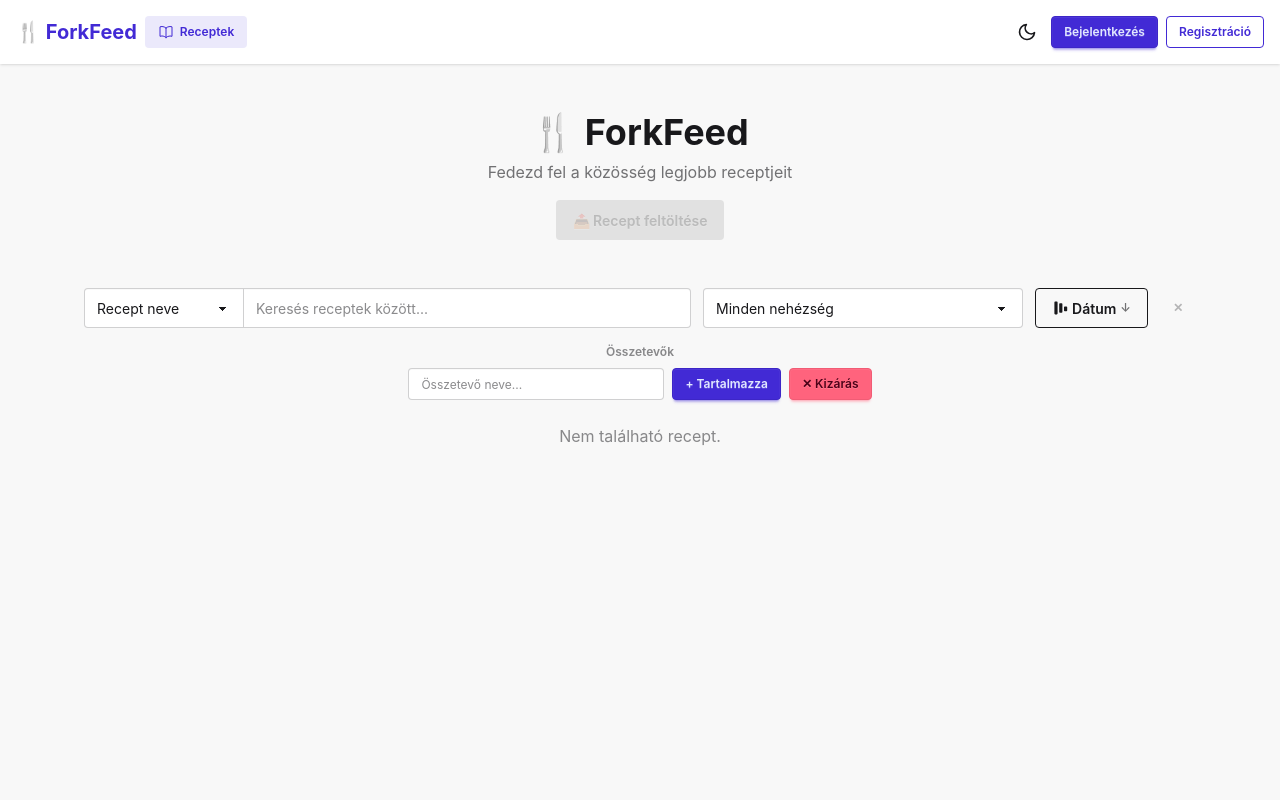
Test: Navigation › navigates from main page to login page
Click the link "Bejelentkezés" at (1105, 32), box [1051,16,1158,48]
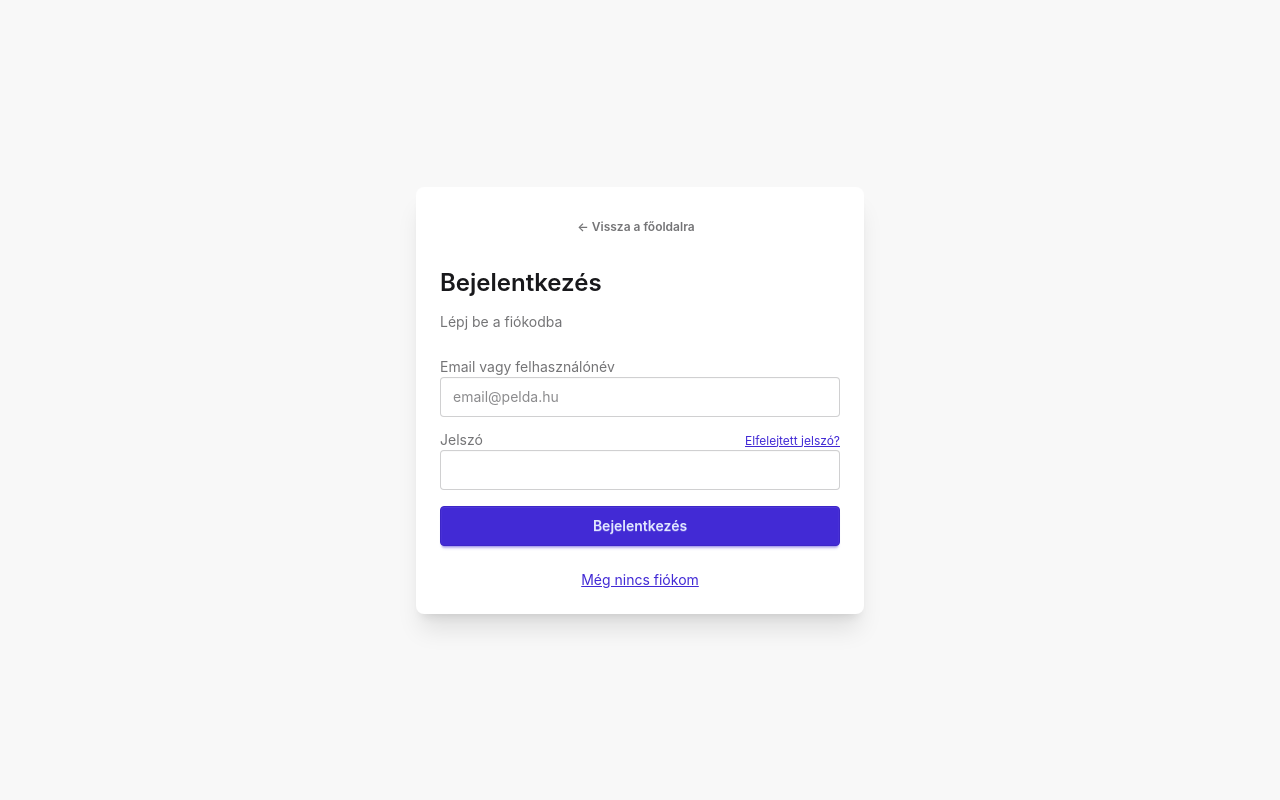
Result: the heading "Bejelentkezés" is shown at [440,268,602,296]
